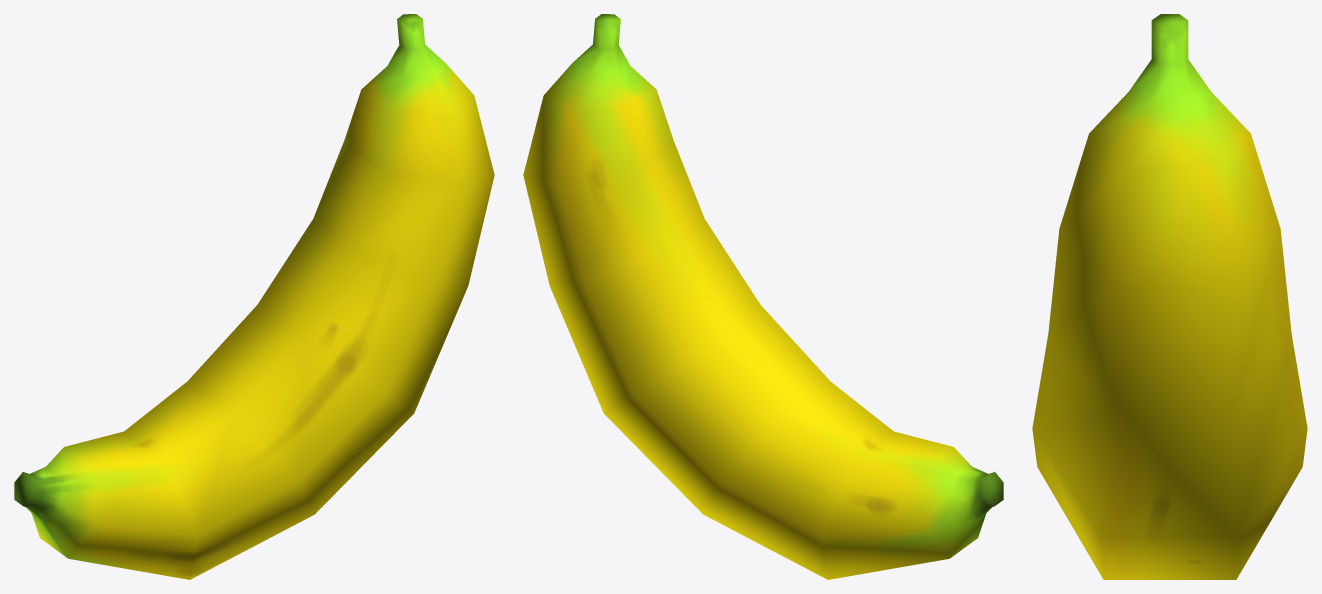
File: banana.fbx
3 renders of one model, left to right at view 1: azimuth 30°, elevation 25°; view 2: azimuth 150°, elevation 25°; view 3: azimuth 270°, elevation 25°, orthographic. The views are drawn at different scales.
Parts seen in each view (by area): view 1: banana; view 2: banana; view 3: banana.
Boxes of the visible parts, box(x1,y1,x2,y2) form: banana: box(14, 14, 494, 579); banana: box(523, 14, 1003, 579); banana: box(1032, 14, 1307, 579).
Size of the model in its own units: 2.21 by 2.25 by 0.8069.
